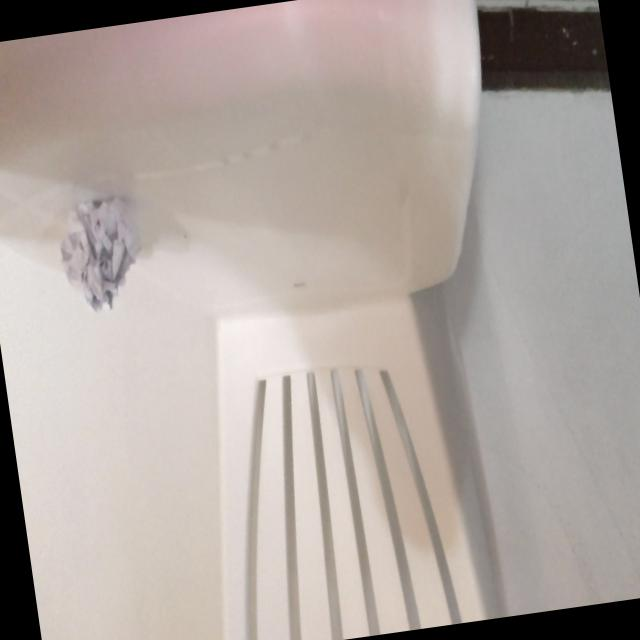crumpled_paper: (48, 191, 154, 325)
